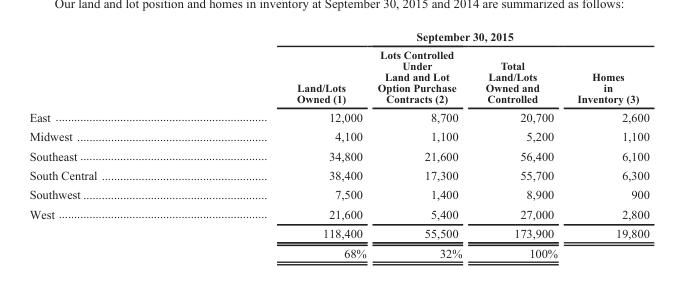table: (28, 29, 648, 259)
table column: (196, 29, 371, 259), (28, 29, 196, 259), (371, 29, 473, 259), (473, 29, 566, 259), (566, 29, 648, 259)
table column header: (28, 29, 648, 107)
table row: (28, 45, 648, 107), (28, 145, 648, 165), (28, 203, 648, 223), (28, 107, 648, 126), (28, 126, 648, 145), (28, 165, 648, 184), (28, 184, 648, 203), (28, 223, 648, 242), (28, 242, 648, 259), (28, 29, 648, 45)
table spanning cell: (196, 29, 648, 45)
